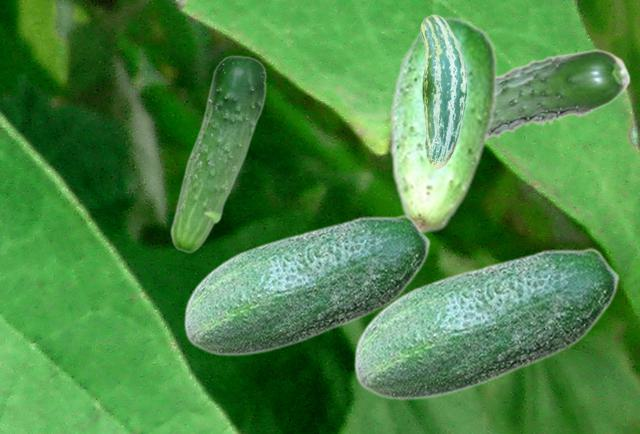cucumber: (353, 247, 619, 399), (183, 214, 430, 355), (389, 15, 496, 234), (169, 55, 266, 252), (489, 49, 630, 140), (420, 14, 466, 168)
